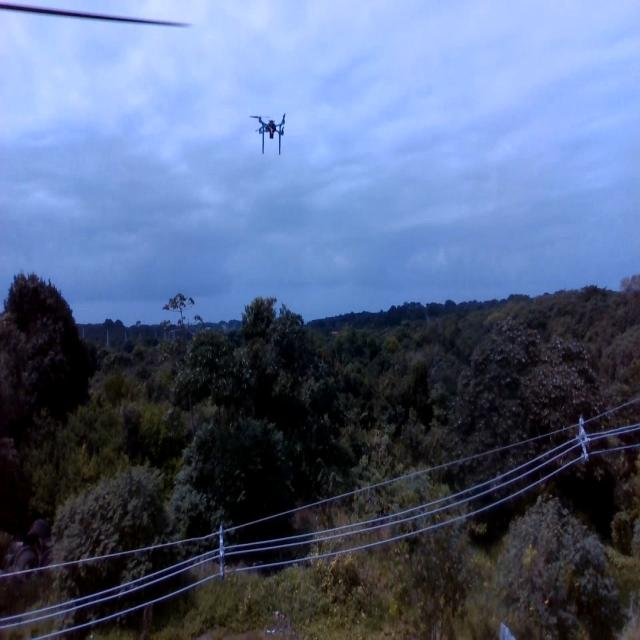-uav-: (241, 99, 296, 166)
